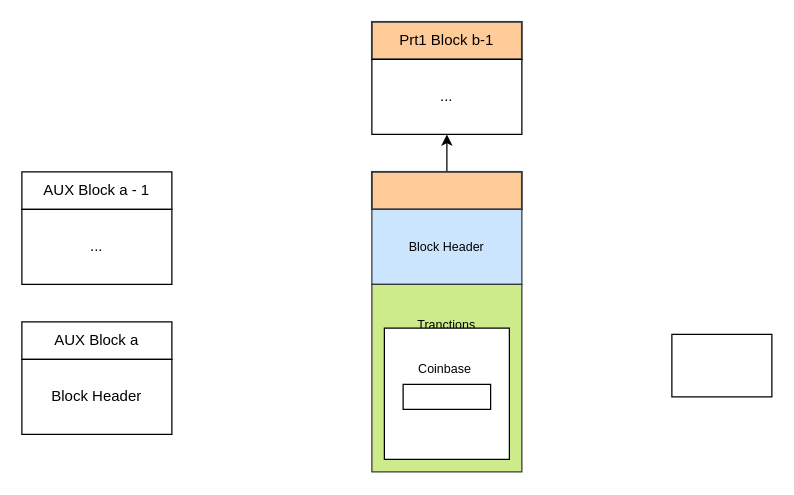
This 794x495 diagram has some shape labels left out. Each missing label, with the centre of its shape:
input Scriptsig: point 446,396
Prt1 Block b: point 446,190
